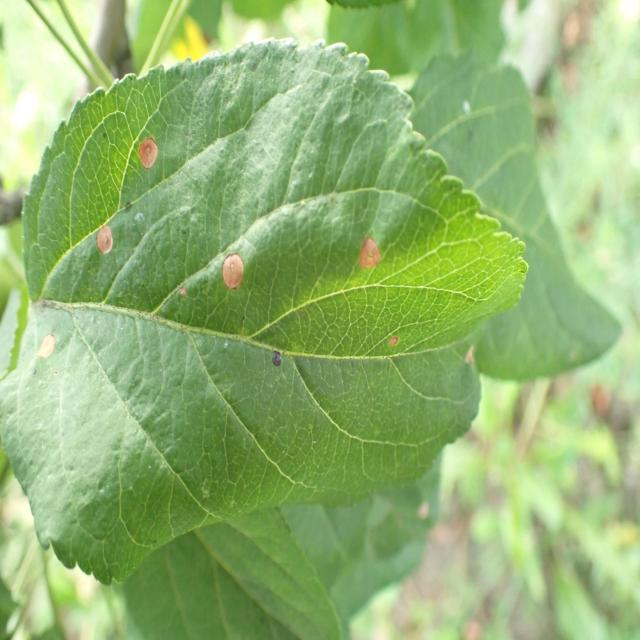Black Rot: (87, 208, 147, 278), (118, 108, 164, 199), (210, 220, 248, 300), (20, 308, 62, 378), (350, 229, 388, 285), (379, 318, 408, 366)
